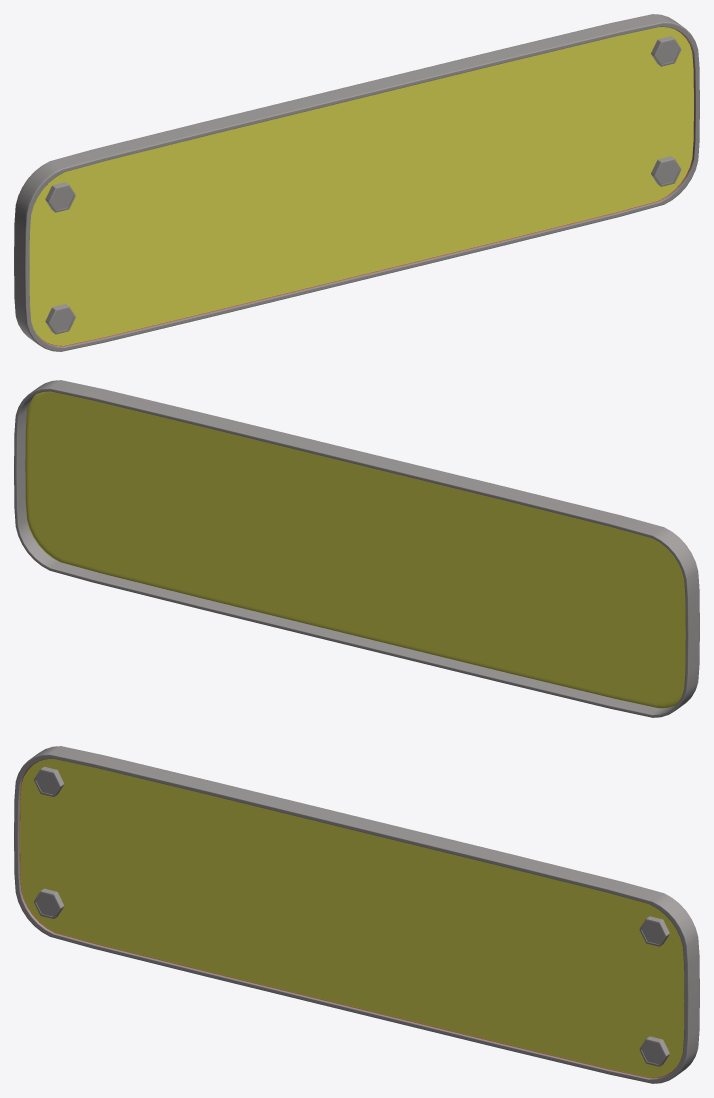
Rendered from CartelAmarillo.fbx.
3 renders of one model, top to bottom at view 1: azimuth 30°, elevation 25°; view 2: azimuth 150°, elevation 25°; view 3: azimuth 330°, elevation 25°, orthographic.
Parts seen in each view (by area): view 1: Cartel_high, Tornillos_high; view 2: Cartel_high; view 3: Cartel_high, Tornillos_high.
Part boxes in pixels (x1,y1,x2,y2): Cartel_high: (14,14,699,351); Tornillos_high: (45,36,681,334); Cartel_high: (14,380,699,717); Cartel_high: (14,746,699,1083); Tornillos_high: (34,766,669,1066).
Size of the model in its own units: 0.0379 by 0.01 by 0.00131.
